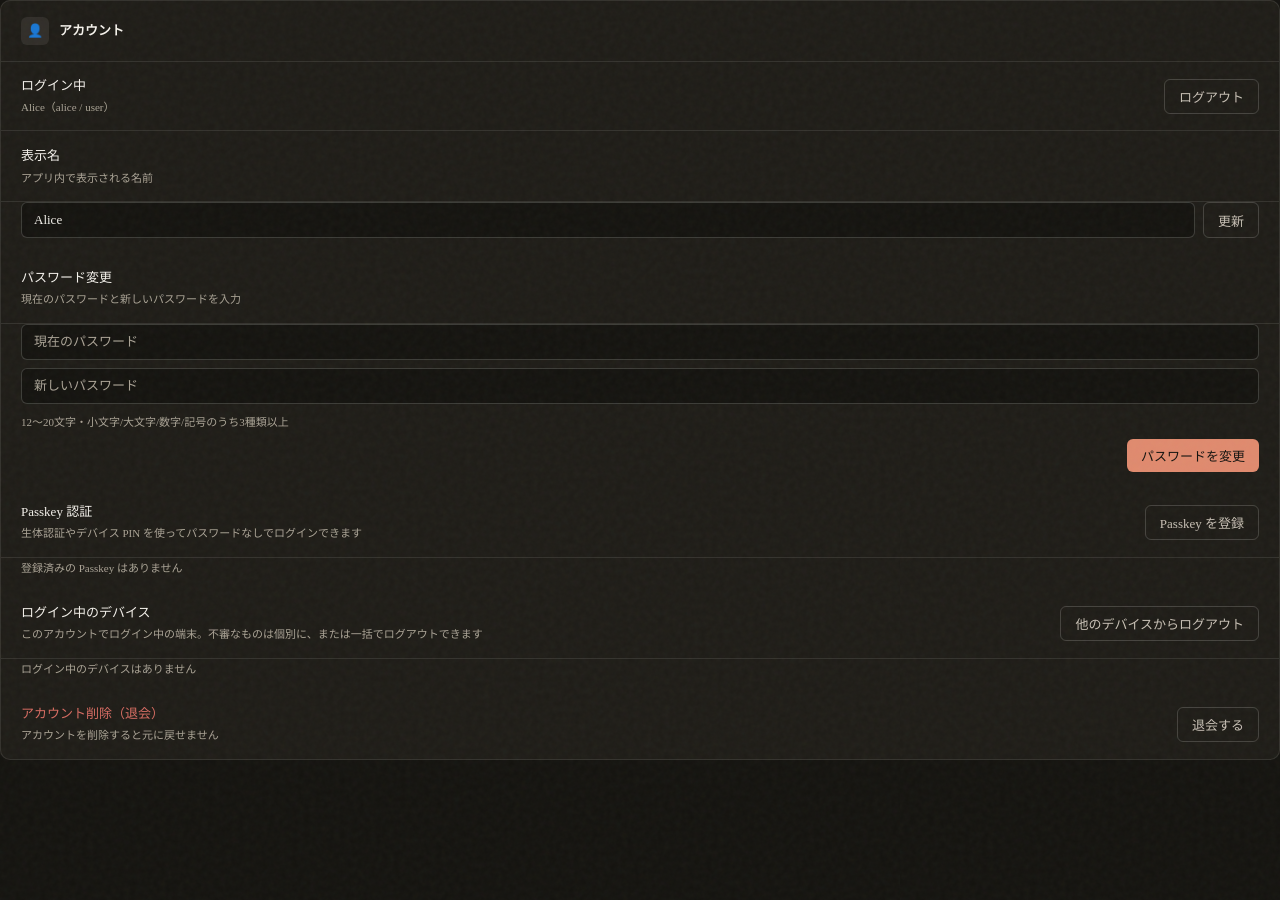
Scenario: AccountSection — Passkey 登録 › 登録中キャンセル (NotAllowedError) 時は汎用エラーメッセージを表示する
What coordinates should you click on to do the following:
click the button "Passkey を登録"
I would click on:
 (1202, 522)
Its box is [1145,505,1259,540].
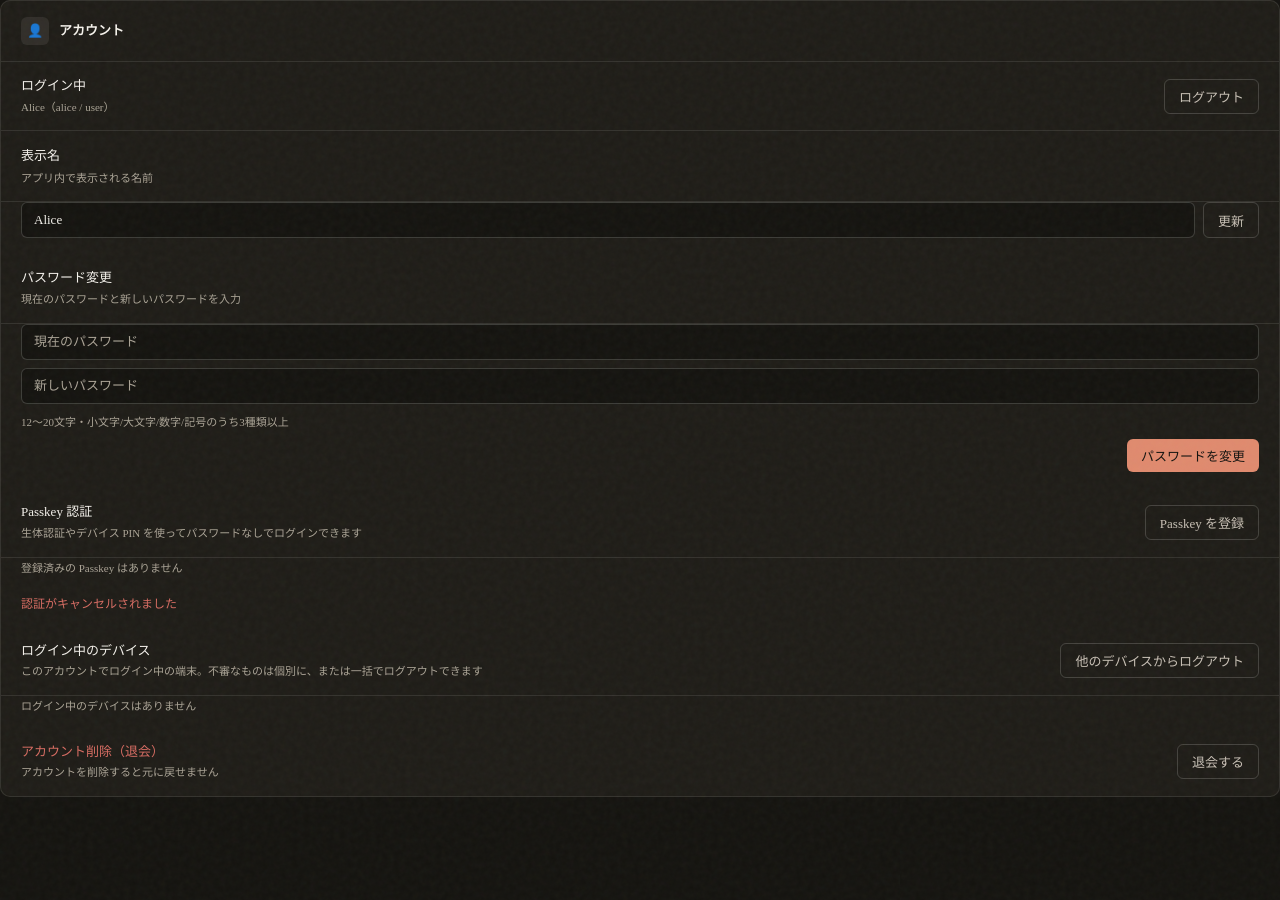
Check: the text "認証がキャンセルされました" is shown, box [21,597,177,611]
